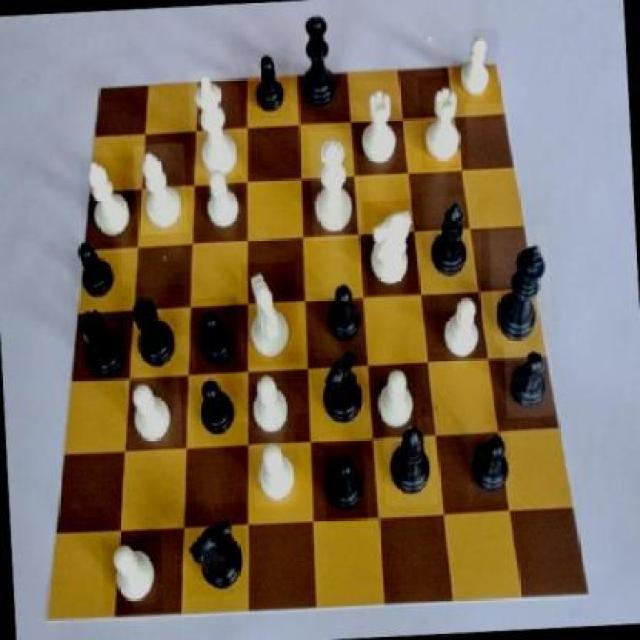bishop: (383, 418, 439, 508), (425, 195, 482, 282)
black-bishop: (489, 225, 554, 347)
black-king: (182, 503, 250, 597), (316, 343, 372, 432)
black-knight: (191, 369, 247, 448), (504, 337, 556, 419), (465, 423, 517, 502), (318, 270, 372, 344), (68, 237, 124, 305), (192, 297, 240, 372), (323, 444, 368, 524), (246, 48, 292, 120)
black-pawn: (292, 8, 350, 110)
black-queen: (125, 285, 187, 372), (72, 298, 133, 384)
black-rook: (134, 143, 189, 236), (79, 157, 136, 241)
white-bishop: (188, 70, 243, 178)
white-king: (242, 262, 300, 366), (363, 200, 419, 297)
white-knight: (102, 536, 164, 616), (438, 284, 491, 364), (125, 377, 182, 450), (245, 366, 297, 443), (451, 30, 501, 106), (370, 357, 418, 436), (250, 429, 298, 507), (199, 164, 246, 234)
white-pawn: (310, 129, 362, 242)
white-queen: (418, 76, 469, 172), (357, 80, 406, 174)
